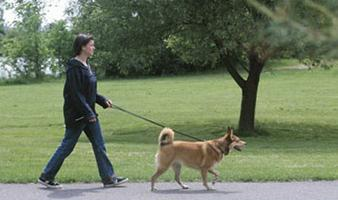person: (39, 35, 129, 187)
